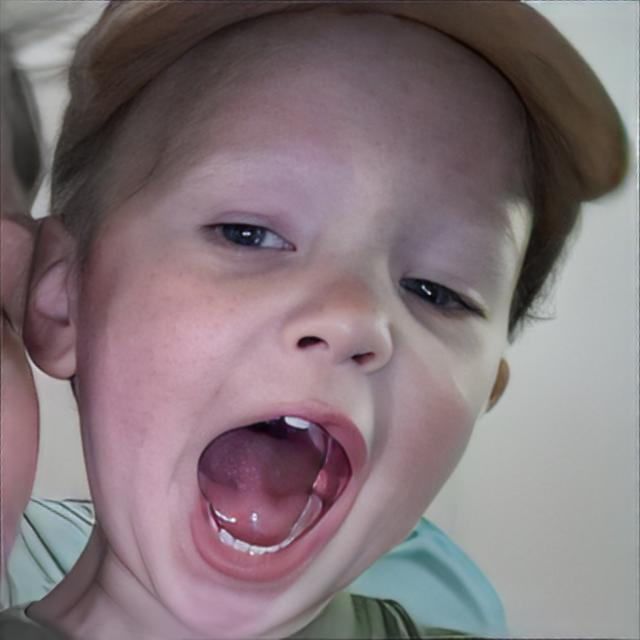surprise: (79, 0, 536, 640)
